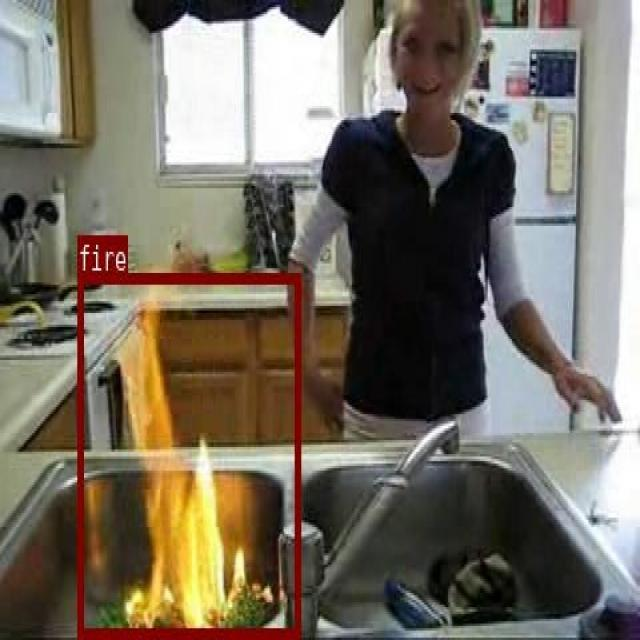fire: (77, 273, 299, 635)
